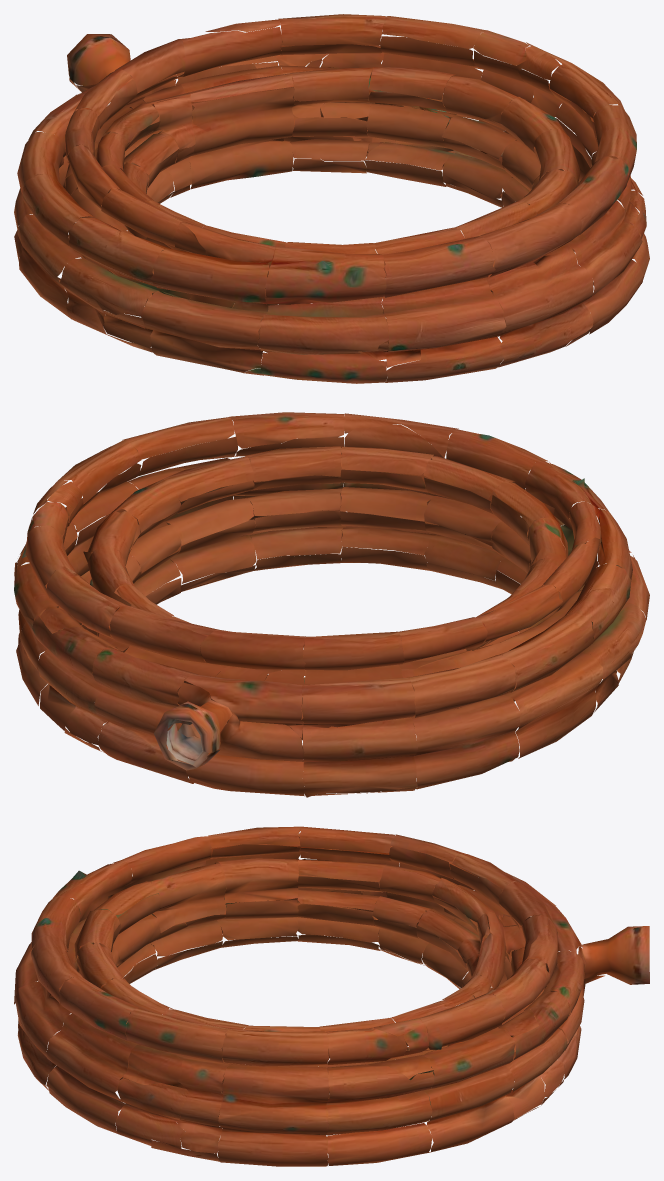
The model's file is copper_coil.glb.
The picture shows the model from 3 angles, top to bottom: view 1: azimuth 30°, elevation 25°; view 2: azimuth 150°, elevation 25°; view 3: azimuth 270°, elevation 25°; orthographic projection. The views are drawn at different scales.
Parts seen in each view (by area): view 1: tripo_node_17ce4c01-03cb-4475-ba22-063131968133; view 2: tripo_node_17ce4c01-03cb-4475-ba22-063131968133; view 3: tripo_node_17ce4c01-03cb-4475-ba22-063131968133.
Part boxes in pixels (box(x1,y1,x2,y2)): tripo_node_17ce4c01-03cb-4475-ba22-063131968133: box(14, 14, 649, 383); tripo_node_17ce4c01-03cb-4475-ba22-063131968133: box(14, 412, 649, 797); tripo_node_17ce4c01-03cb-4475-ba22-063131968133: box(14, 826, 649, 1166).
Bounding box in the file's own units: 0.9005 × 0.2277 × 1.
1 material, 1 textured.
